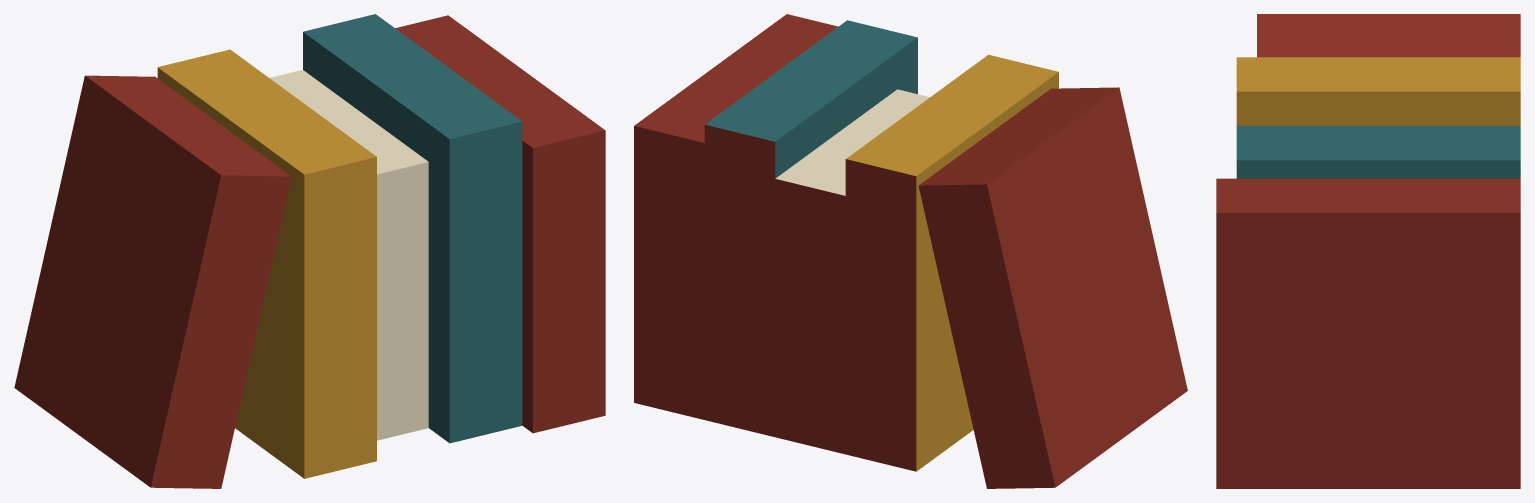
Rendered from cafe_books.fbx.
The picture shows the model from 3 angles, left to right: view 1: azimuth 30°, elevation 25°; view 2: azimuth 150°, elevation 25°; view 3: azimuth 270°, elevation 25°; orthographic projection. The views are drawn at different scales.
Visible parts, largest first — view 1: cafe_books; view 2: cafe_books; view 3: cafe_books.
Part boxes in pixels (left/top/right/bottom): cafe_books: left=14, top=14, right=605, bottom=488; cafe_books: left=634, top=14, right=1187, bottom=488; cafe_books: left=1216, top=14, right=1520, bottom=488.
Size of the model in its own units: 0.26 by 0.1796 by 0.1633.
1 material, 1 textured.
